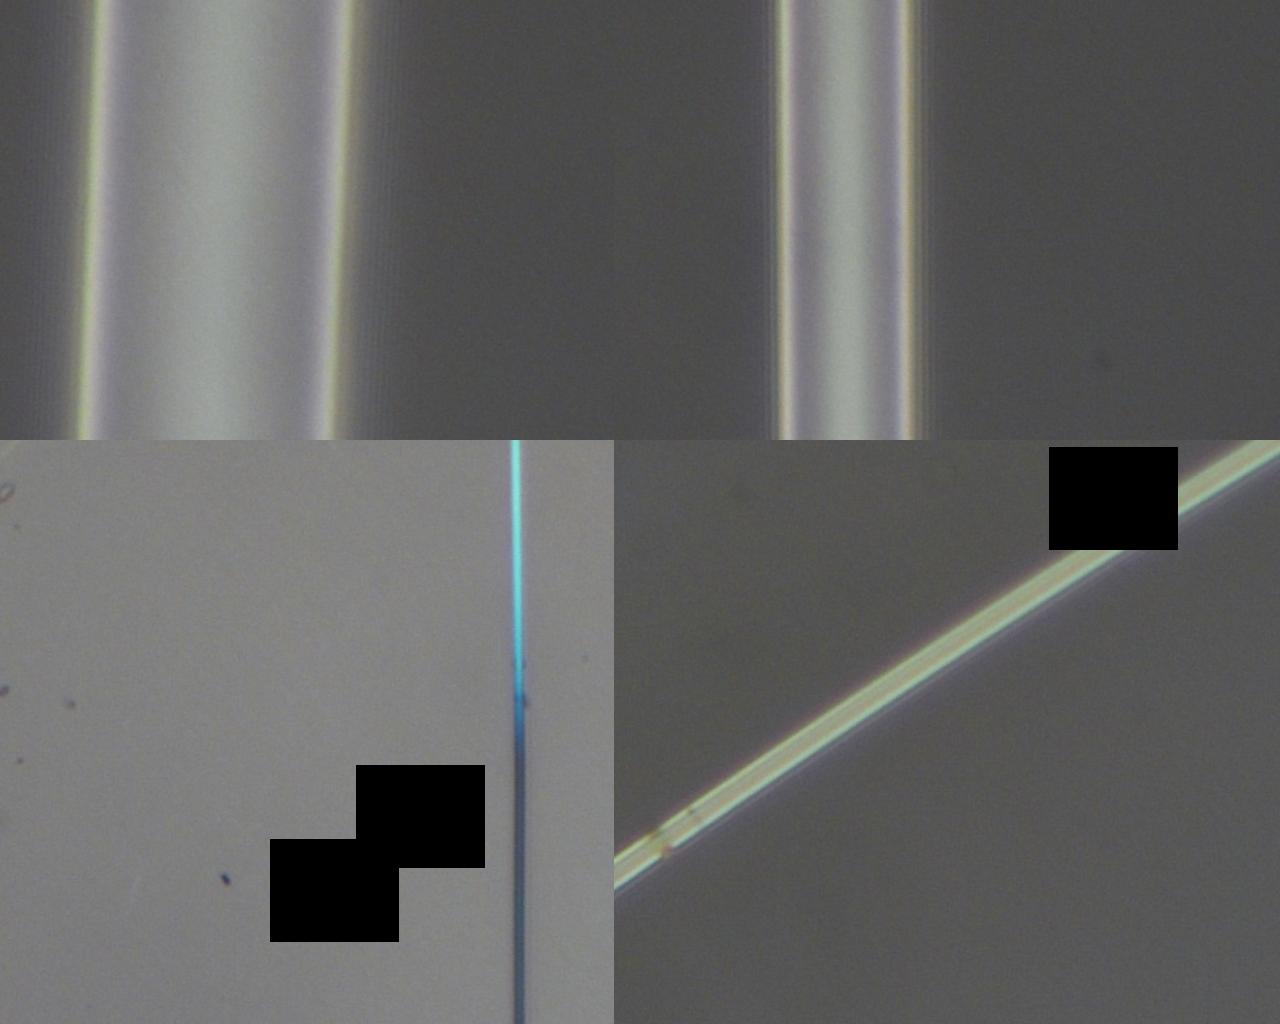fiber: (758, 358, 1274, 1024), (645, 0, 746, 358)
